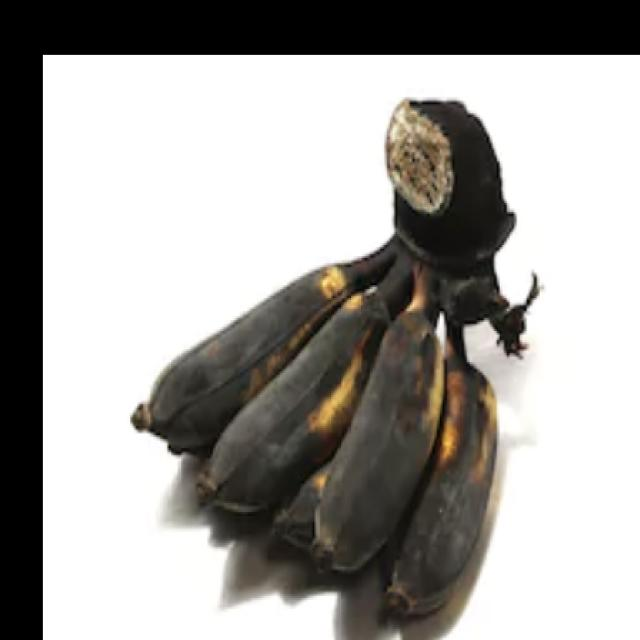banana: (96, 100, 602, 525)
